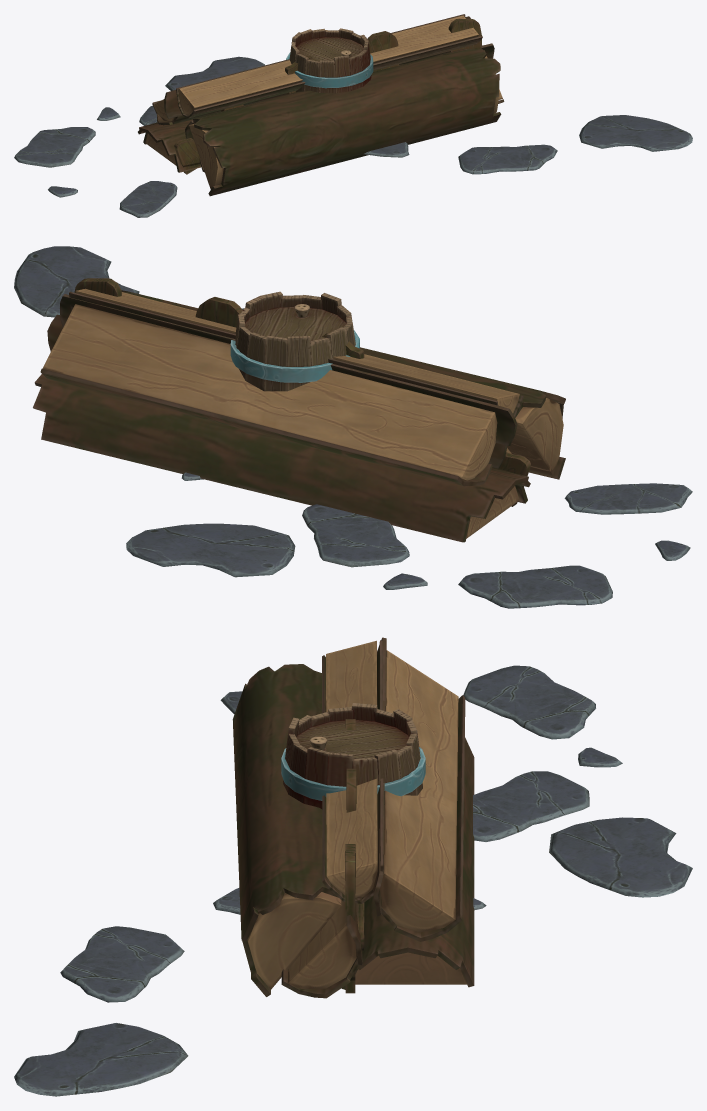
Rendered from SM_Props.fbx.
3 views of the same model, one above another, from view 1: azimuth 30°, elevation 25°; view 2: azimuth 150°, elevation 25°; view 3: azimuth 270°, elevation 25° (orthographic). The views are drawn at different scales.
Visible parts, largest first — view 1: SM_Logs, SN_Stones, SM_Barrels, SM_Fence_01; view 2: SM_Logs, SN_Stones, SM_Barrels, SM_Fence_01; view 3: SM_Logs, SN_Stones, SM_Barrels, SM_Fence_01.
Part boxes in pixels (left/top/right/bottom): SM_Logs: left=138, top=14, right=504, bottom=196; SN_Stones: left=14, top=56, right=692, bottom=217; SM_Barrels: left=286, top=28, right=373, bottom=93; SM_Fence_01: left=174, top=19, right=482, bottom=174; SM_Logs: left=33, top=288, right=565, bottom=542; SN_Stones: left=14, top=246, right=692, bottom=608; SM_Barrels: left=230, top=291, right=359, bottom=391; SM_Fence_01: left=74, top=278, right=530, bottom=506; SM_Logs: left=232, top=637, right=474, bottom=998; SN_Stones: left=14, top=665, right=692, bottom=1096; SM_Barrels: left=281, top=703, right=425, bottom=809; SM_Fence_01: left=345, top=719, right=364, bottom=993.
Bounding box in the file's own units: 9.42 × 1.61 × 6.22.
